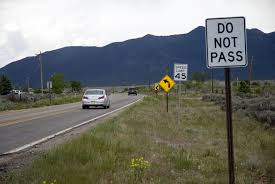curveLeft: (158, 73, 175, 90)
doNotPass: (204, 16, 248, 69)
speedLimit45: (175, 64, 189, 81)
